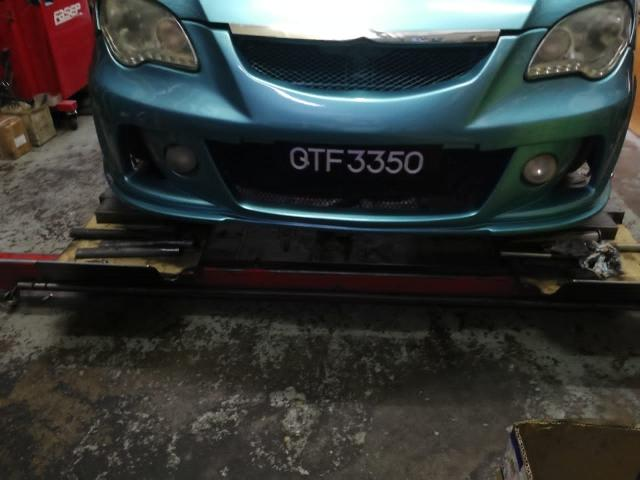License_Plate: (279, 141, 440, 186)
car: (83, 7, 640, 248)
